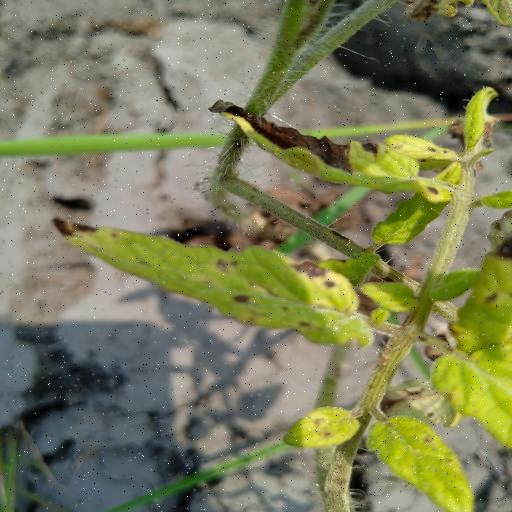Tomato_Brown_Spots: (50, 212, 376, 349), (204, 94, 464, 205)
